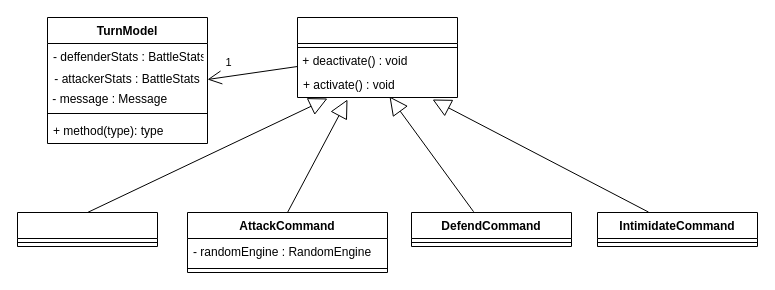
The diagram is 775 pixels wide and 290 high, and some of its shapes have lost their labels. The box of each missing label's shape, as (x1, y1, x2, y2) in pixels:
BattleCommand: (296, 16, 458, 98)
CureCommand: (16, 212, 158, 246)
